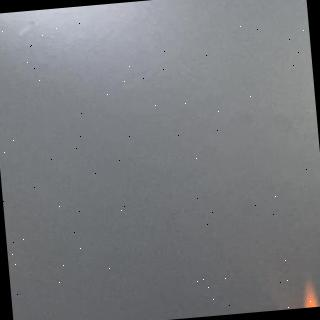fire: (290, 270, 320, 309)
